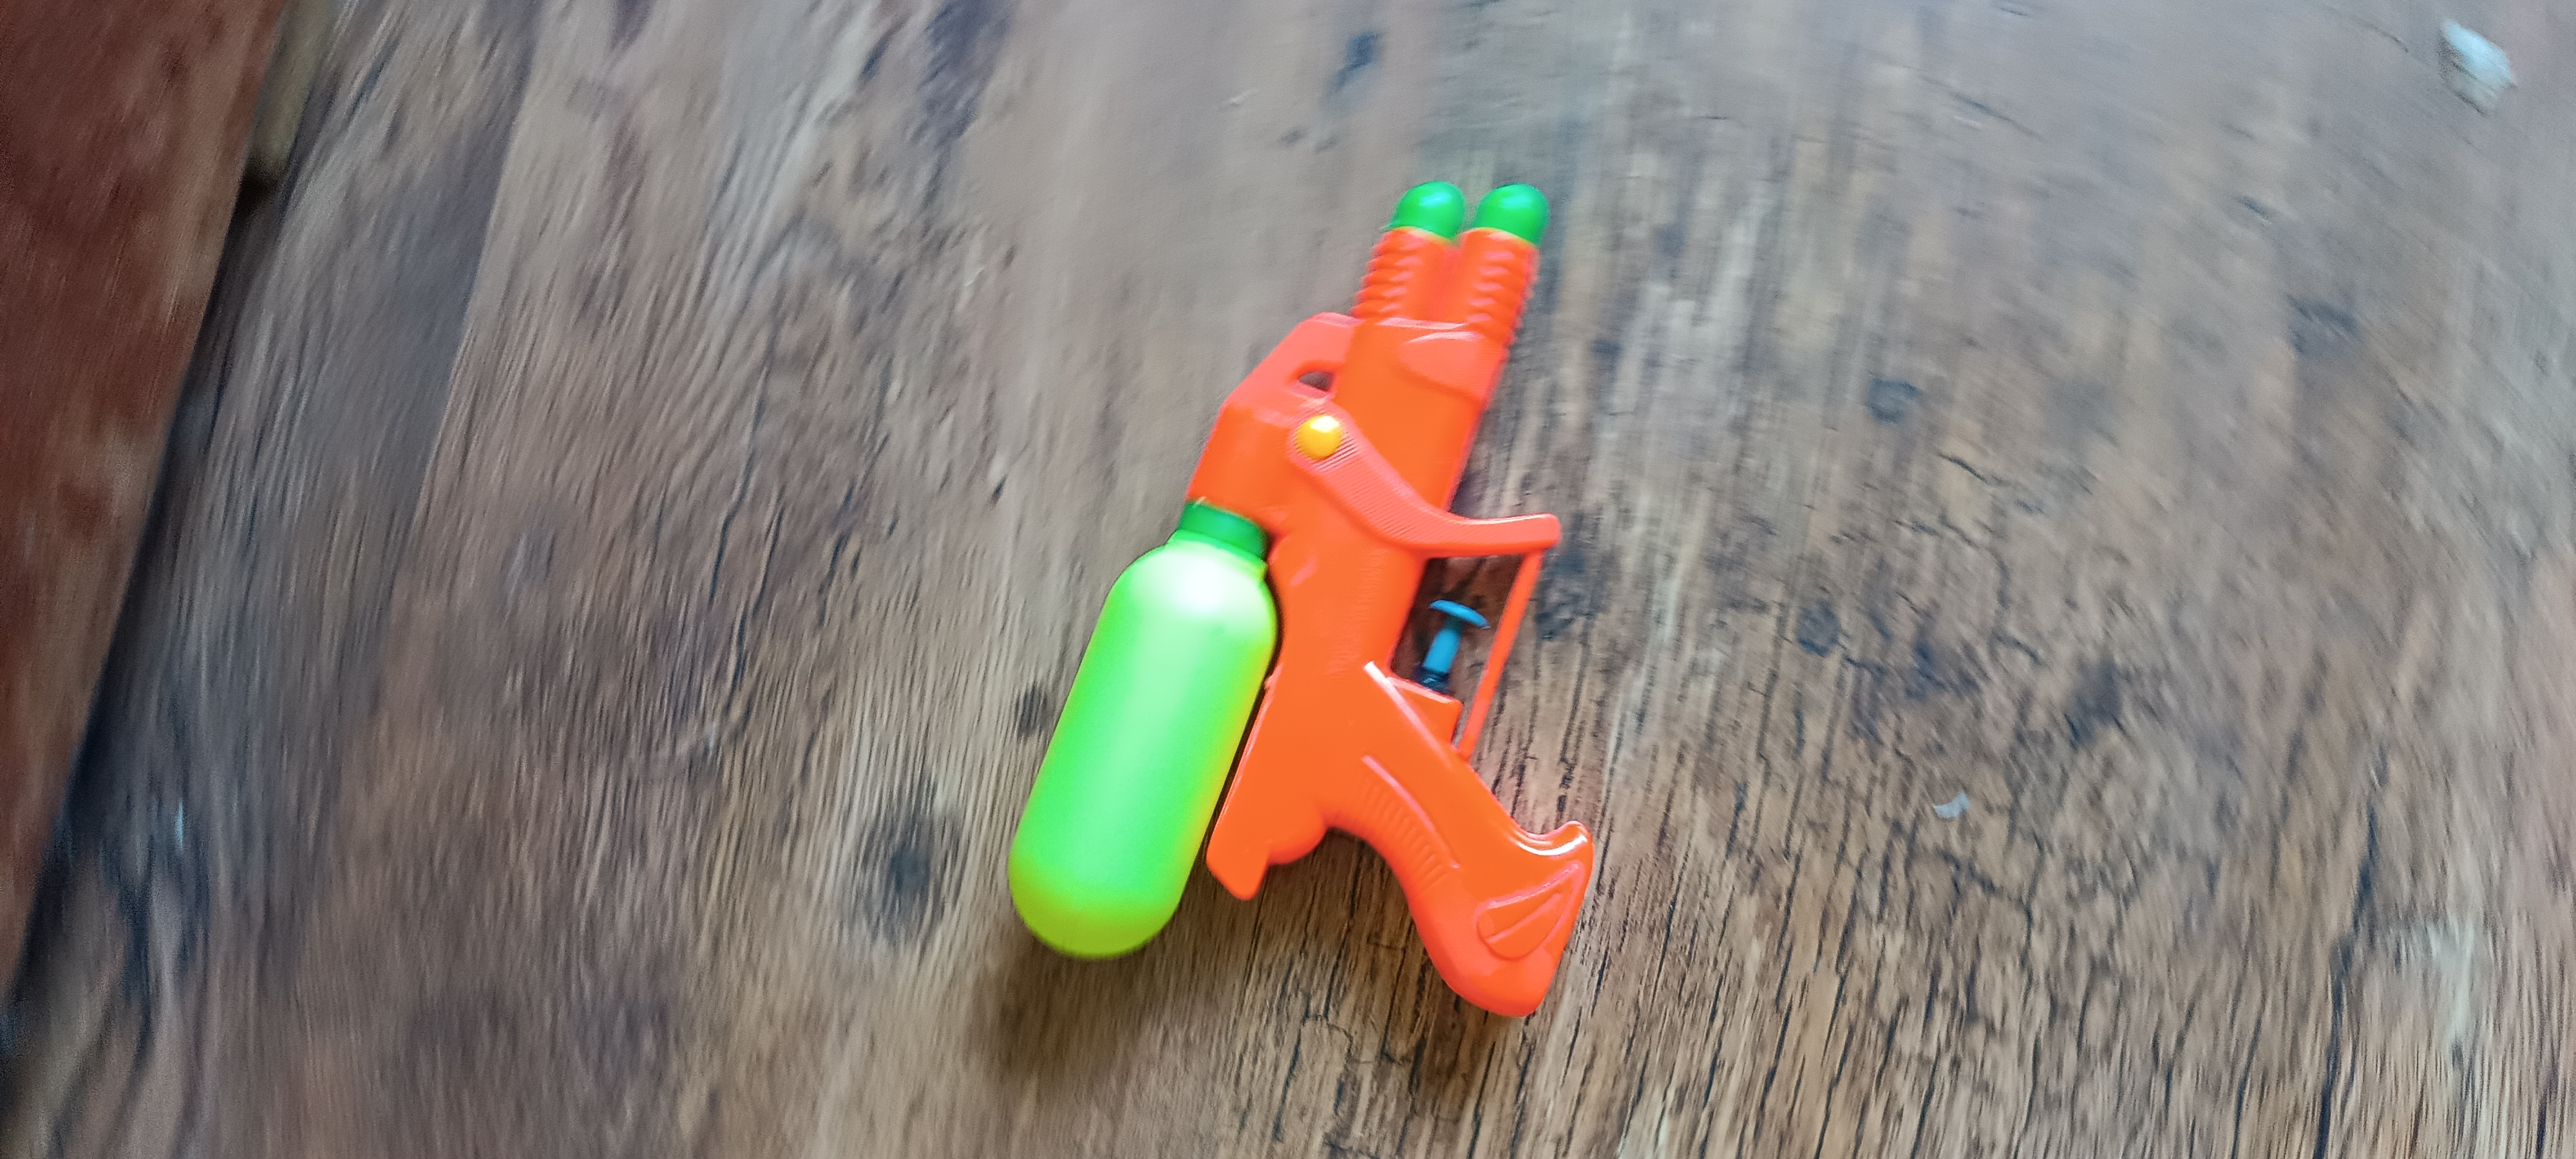Water Gun: (1007, 179, 1597, 1021)
